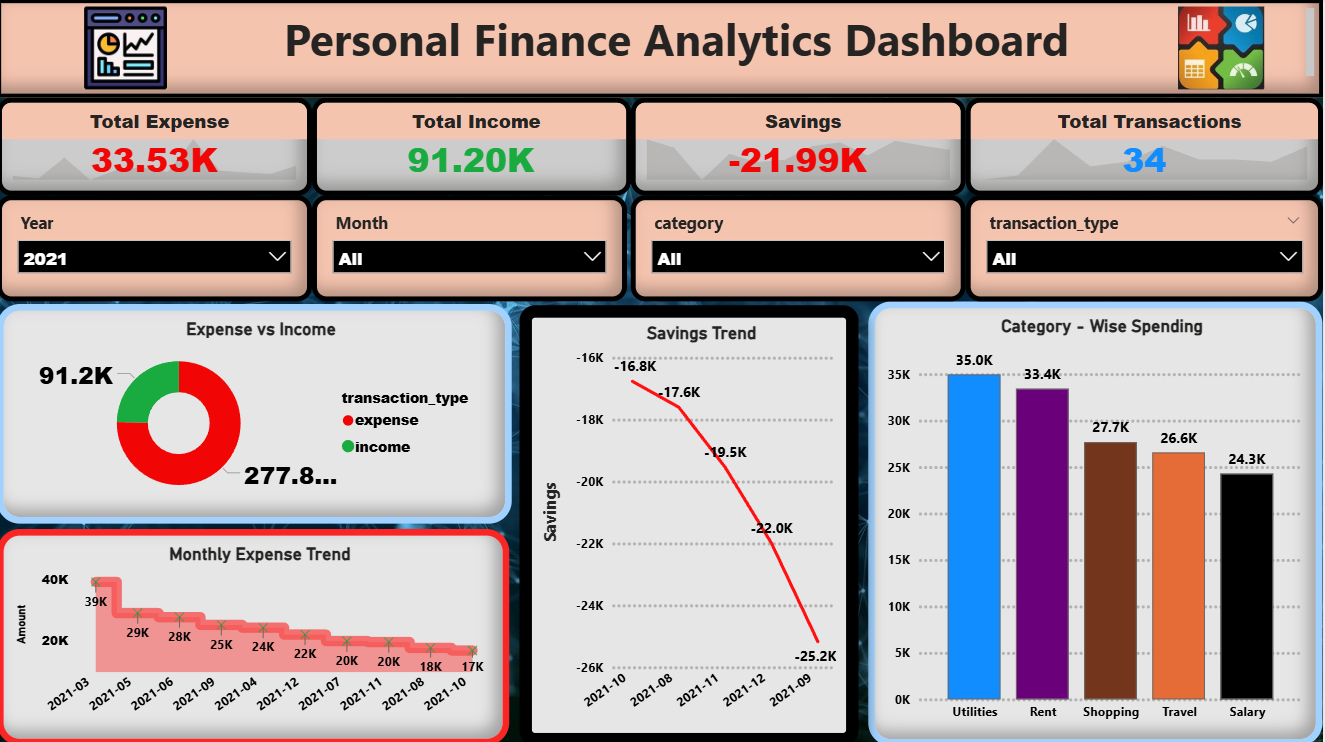

Layout of this report page (visuals, bound fields, positions):
{"tool":"powerbi","page":{"name":"Expense Analysis","canvas":[1280,720],"ordinal":0},"visuals":[{"type":"slicer","fields":{"Values":["Finance_transactions.txn_year"]},"box":[0,189.4,304,102.5],"z":0},{"type":"kpi","title":"Total Expense","fields":{"Indicator":["Finance_transactions.Total Expense"],"TrendLine":["Finance_transactions.txn_month"]},"box":[0,95.3,304,94.1],"z":1000},{"type":"kpi","title":"Total Income ","fields":{"Indicator":["Finance_transactions.Total Incone"],"TrendLine":["Finance_transactions.txn_year"]},"box":[304,95.3,307.6,94.1],"z":2000},{"type":"kpi","title":"Savings","fields":{"Indicator":["Finance_transactions.Savings"],"TrendLine":["Finance_transactions.years_month"]},"box":[611.7,95,323.3,94.2],"z":3000},{"type":"kpi","title":"Total Transactions ","fields":{"Indicator":["Finance_transactions.Toatl Transacctions"],"TrendLine":["Finance_transactions.category"]},"box":[935,95.3,345,94.1],"z":4000},{"type":"lineChart","title":"Monthly Expense Trend","fields":{"Category":["Finance_transactions.years_month"],"Y":["Sum(Finance_transactions.abs_amount)"]},"box":[0,511.5,494.6,208.7],"z":5000},{"type":"clusteredColumnChart","title":"Category - Wise Spending","fields":{"Category":["Finance_transactions.category"],"Y":["Sum(Finance_transactions.abs_amount)"]},"box":[841.4,291.4,438.6,428.6],"z":6000},{"type":"donutChart","title":"Expense vs Income","fields":{"Category":["Finance_transactions.transaction_type"],"Y":["Finance_transactions.Total Expense"]},"box":[0,294.4,497,212],"z":7000},{"type":"lineChart","title":"Savings Trend","fields":{"Category":["Finance_transactions.years_month"],"Y":["Finance_transactions.Savings"]},"box":[503.8,295,327.5,425],"z":8000},{"type":"textbox","box":[0,0,1280,95.3],"z":9000},{"type":"slicer","fields":{"Values":["Finance_transactions.txn_month"]},"box":[304,189.4,304,102.5],"z":10000},{"type":"slicer","fields":{"Values":["Finance_transactions.category"]},"box":[611.7,189.4,323.3,102.5],"z":11000},{"type":"slicer","fields":{"Values":["Finance_transactions.transaction_type"]},"box":[935,189.2,345,102.5],"z":12000},{"type":"image","box":[14.5,7.2,219.6,79.6],"z":13000},{"type":"image","box":[1099.1,7.2,165.3,79.6],"z":14000}]}

Visuals, with their boxes in screenshot pixels (x1, y1, x2, y2), scaled from the page's 1280x720 canvas onto the 1325x742 screenshot:
slicer - Finance_transactions.txn_year: (x1=0, y1=195, x2=315, y2=301)
"Total Expense" kpi: (x1=0, y1=98, x2=315, y2=195)
"Total Income " kpi: (x1=315, y1=98, x2=633, y2=195)
"Savings" kpi: (x1=633, y1=98, x2=968, y2=195)
"Total Transactions " kpi: (x1=968, y1=98, x2=1324, y2=195)
"Monthly Expense Trend" lineChart: (x1=0, y1=527, x2=512, y2=741)
"Category - Wise Spending" clusteredColumnChart: (x1=871, y1=300, x2=1324, y2=741)
"Expense vs Income" donutChart: (x1=0, y1=303, x2=514, y2=522)
"Savings Trend" lineChart: (x1=522, y1=304, x2=861, y2=741)
textbox: (x1=0, y1=0, x2=1324, y2=98)
slicer - Finance_transactions.txn_month: (x1=315, y1=195, x2=629, y2=301)
slicer - Finance_transactions.category: (x1=633, y1=195, x2=968, y2=301)
slicer - Finance_transactions.transaction_type: (x1=968, y1=195, x2=1324, y2=301)
image: (x1=15, y1=7, x2=242, y2=89)
image: (x1=1138, y1=7, x2=1309, y2=89)
